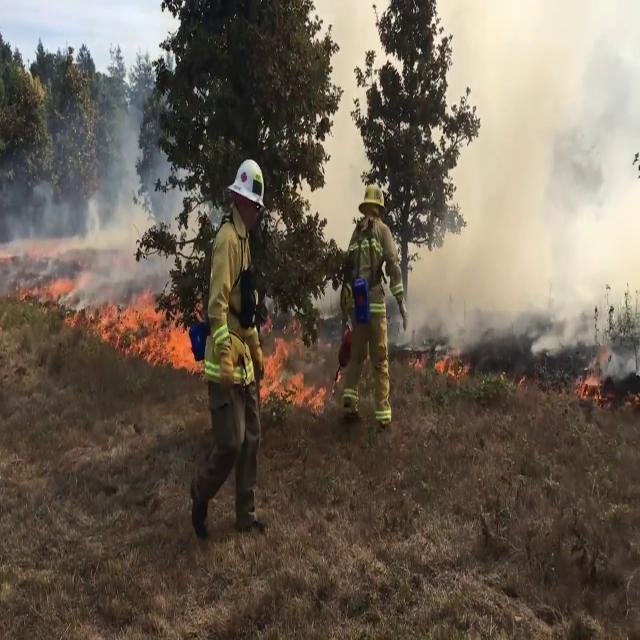Fire: (89, 283, 200, 369), (262, 324, 320, 419), (572, 346, 616, 404), (433, 340, 471, 384)
Smoke: (402, 0, 640, 353), (0, 148, 160, 296)
